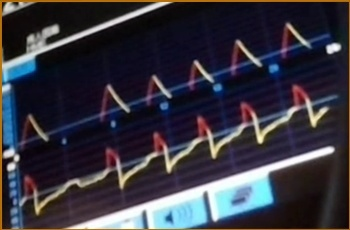Ineffective_effort Flow: (21, 84, 328, 217)
Ineffective_effort Volume: (16, 18, 309, 147)
